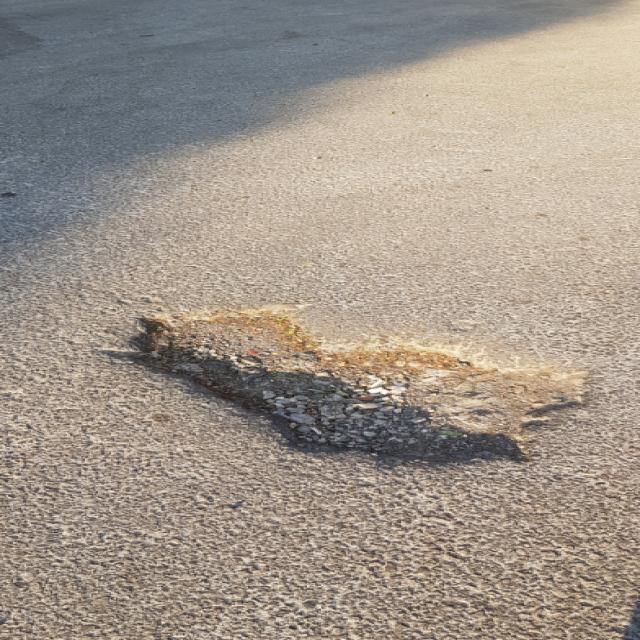pothole: (110, 304, 600, 470)
